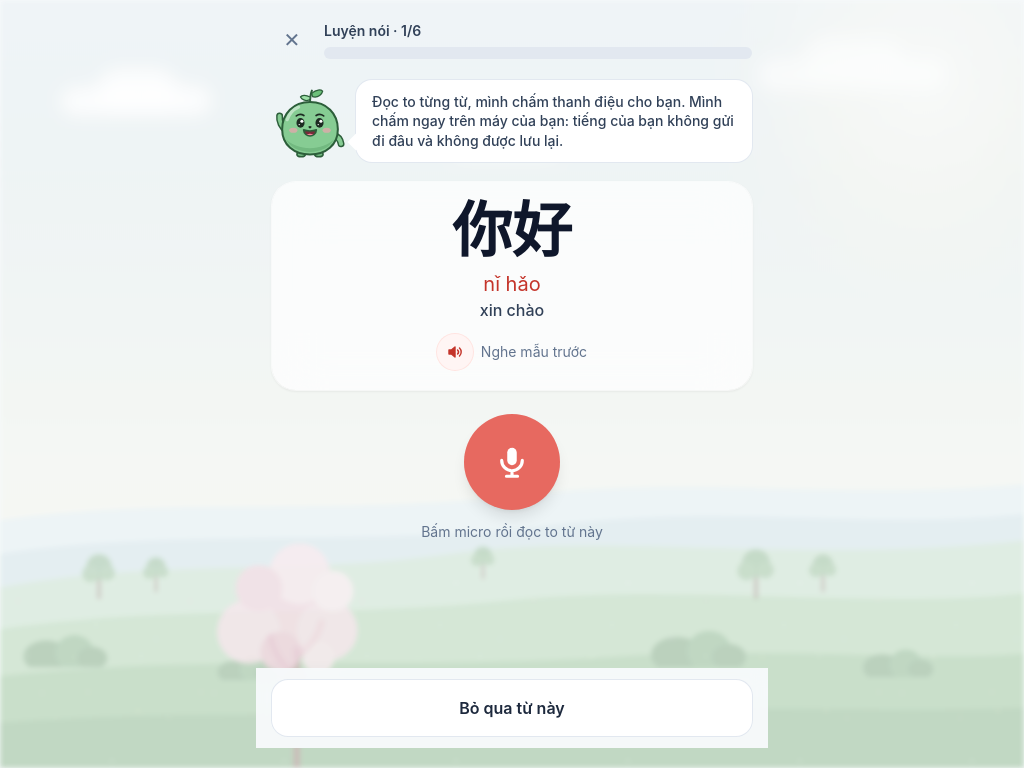
Test case: Màn luyện nói › đọc đúng thì hiện điểm từng âm tiết
Step 1. Click the button named "Bấm để đọc" → click(512, 462), box [464,414,560,510]
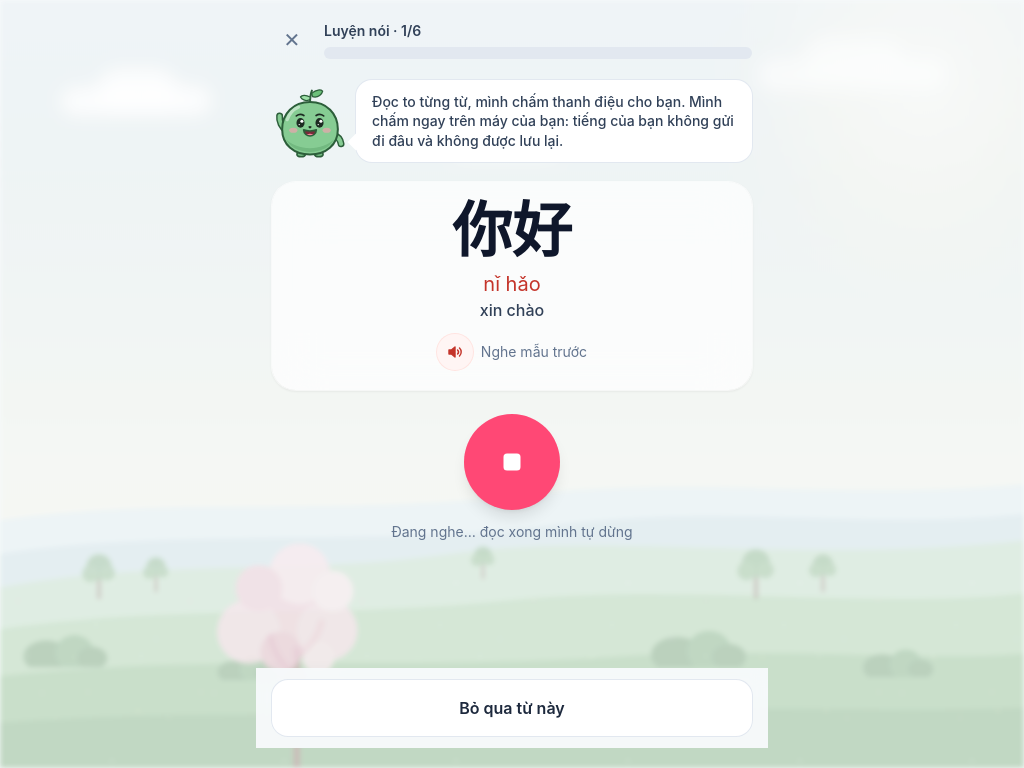
Step 2. Click the button named "Dừng ghi âm" → click(512, 462), box [464,414,560,510]
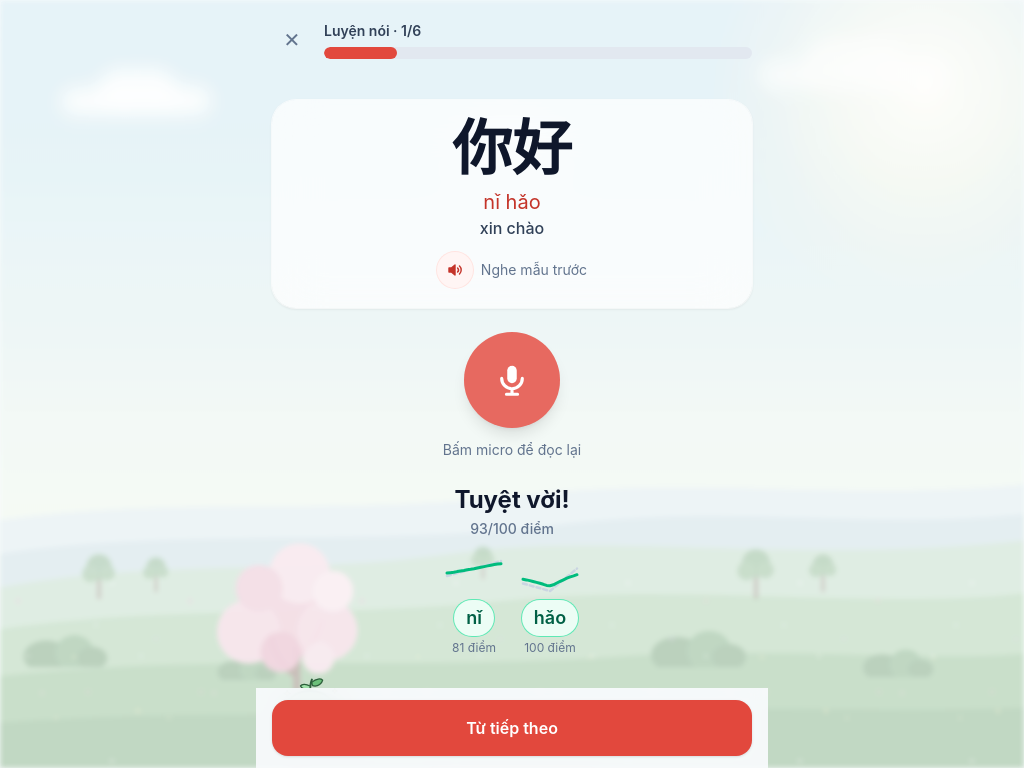
Now the button named "Bấm để đọc" is shown, box [464,332,560,428]
Now the text "93/100 điểm" is shown, box [470,520,554,537]
Now the text "nǐ" is shown, box [454,600,494,636]
